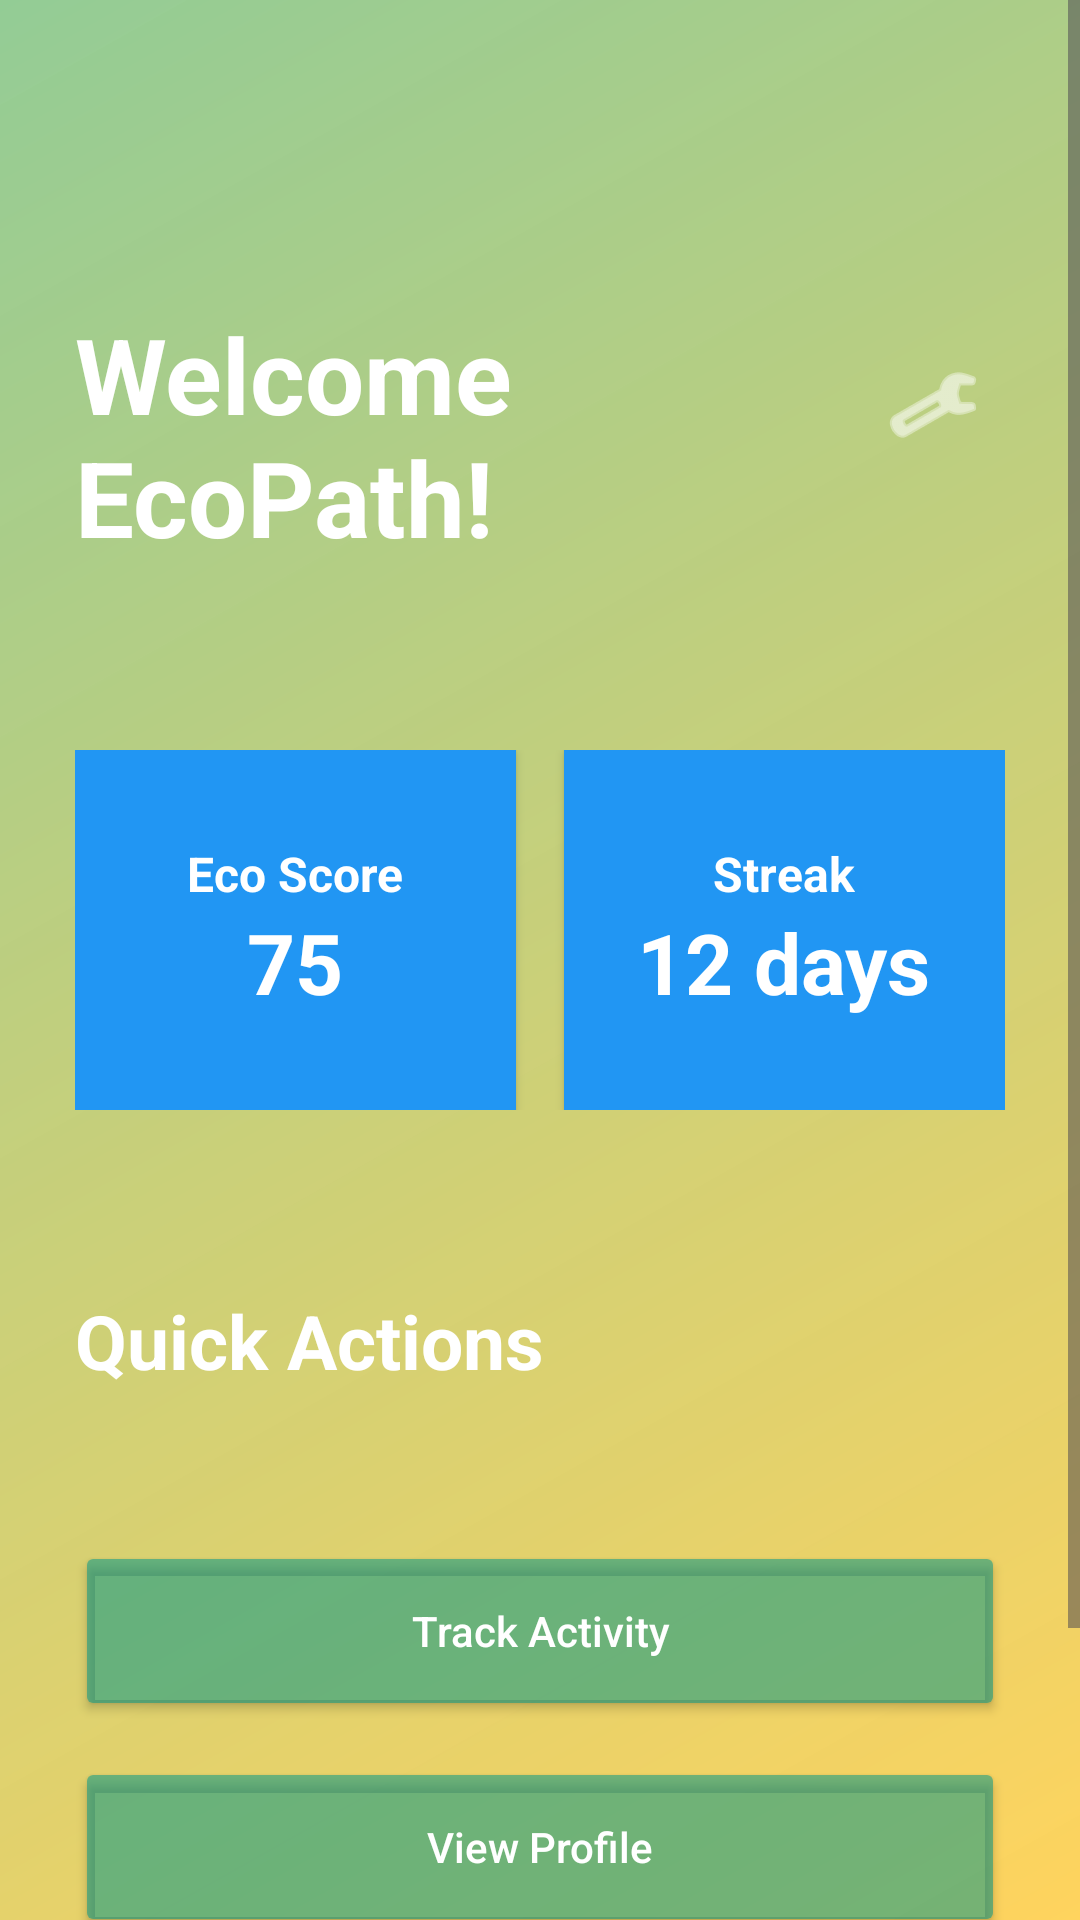

Screen size 1080 × 1920. Icon name, then its box in pixels as [x1, y1, x2, y2]:
Settings: [890, 372, 976, 438]
